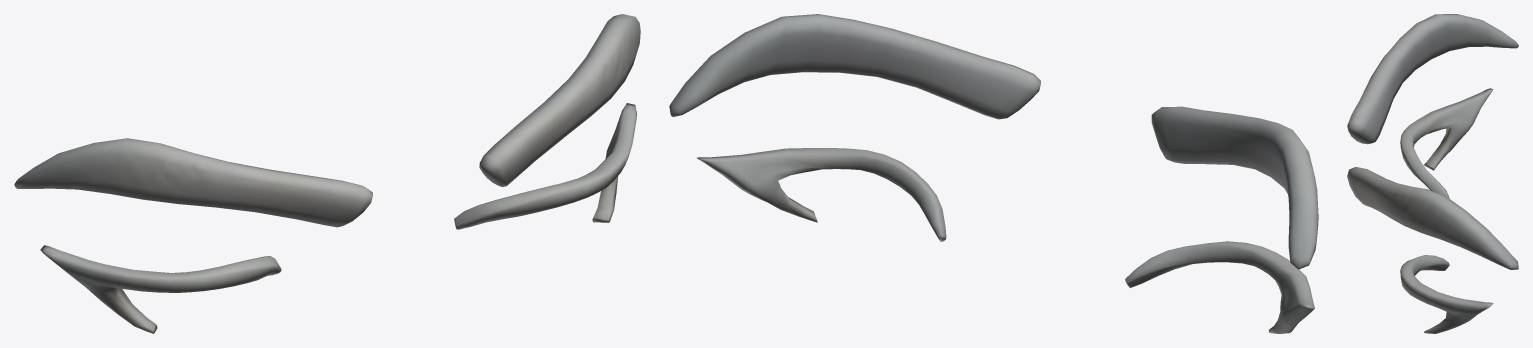
File: Eyebrows_Female.glb
3 renders of one model, left to right at view 1: azimuth 30°, elevation 25°; view 2: azimuth 150°, elevation 25°; view 3: azimuth 270°, elevation 25°, orthographic. The views are drawn at different scales.
Parts seen in each view (by area): view 1: Eyebrows_Female; view 2: Eyebrows_Female; view 3: Eyebrows_Female.
Part boxes in pixels (bbox=[...]): Eyebrows_Female: bbox=[14, 14, 640, 333]; Eyebrows_Female: bbox=[669, 14, 1318, 333]; Eyebrows_Female: bbox=[1347, 14, 1518, 333].
Bounding box in the file's own units: 0.126 × 0.0376 × 0.0403.
1 material, 1 textured.
